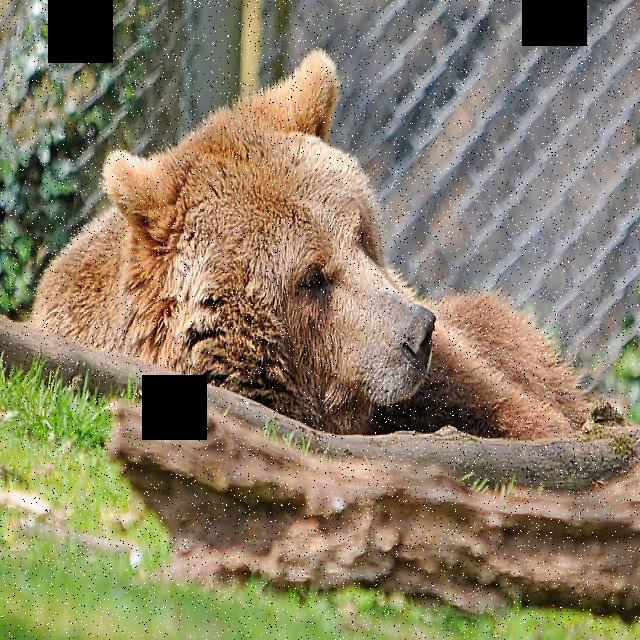Bear: (35, 50, 610, 463)
